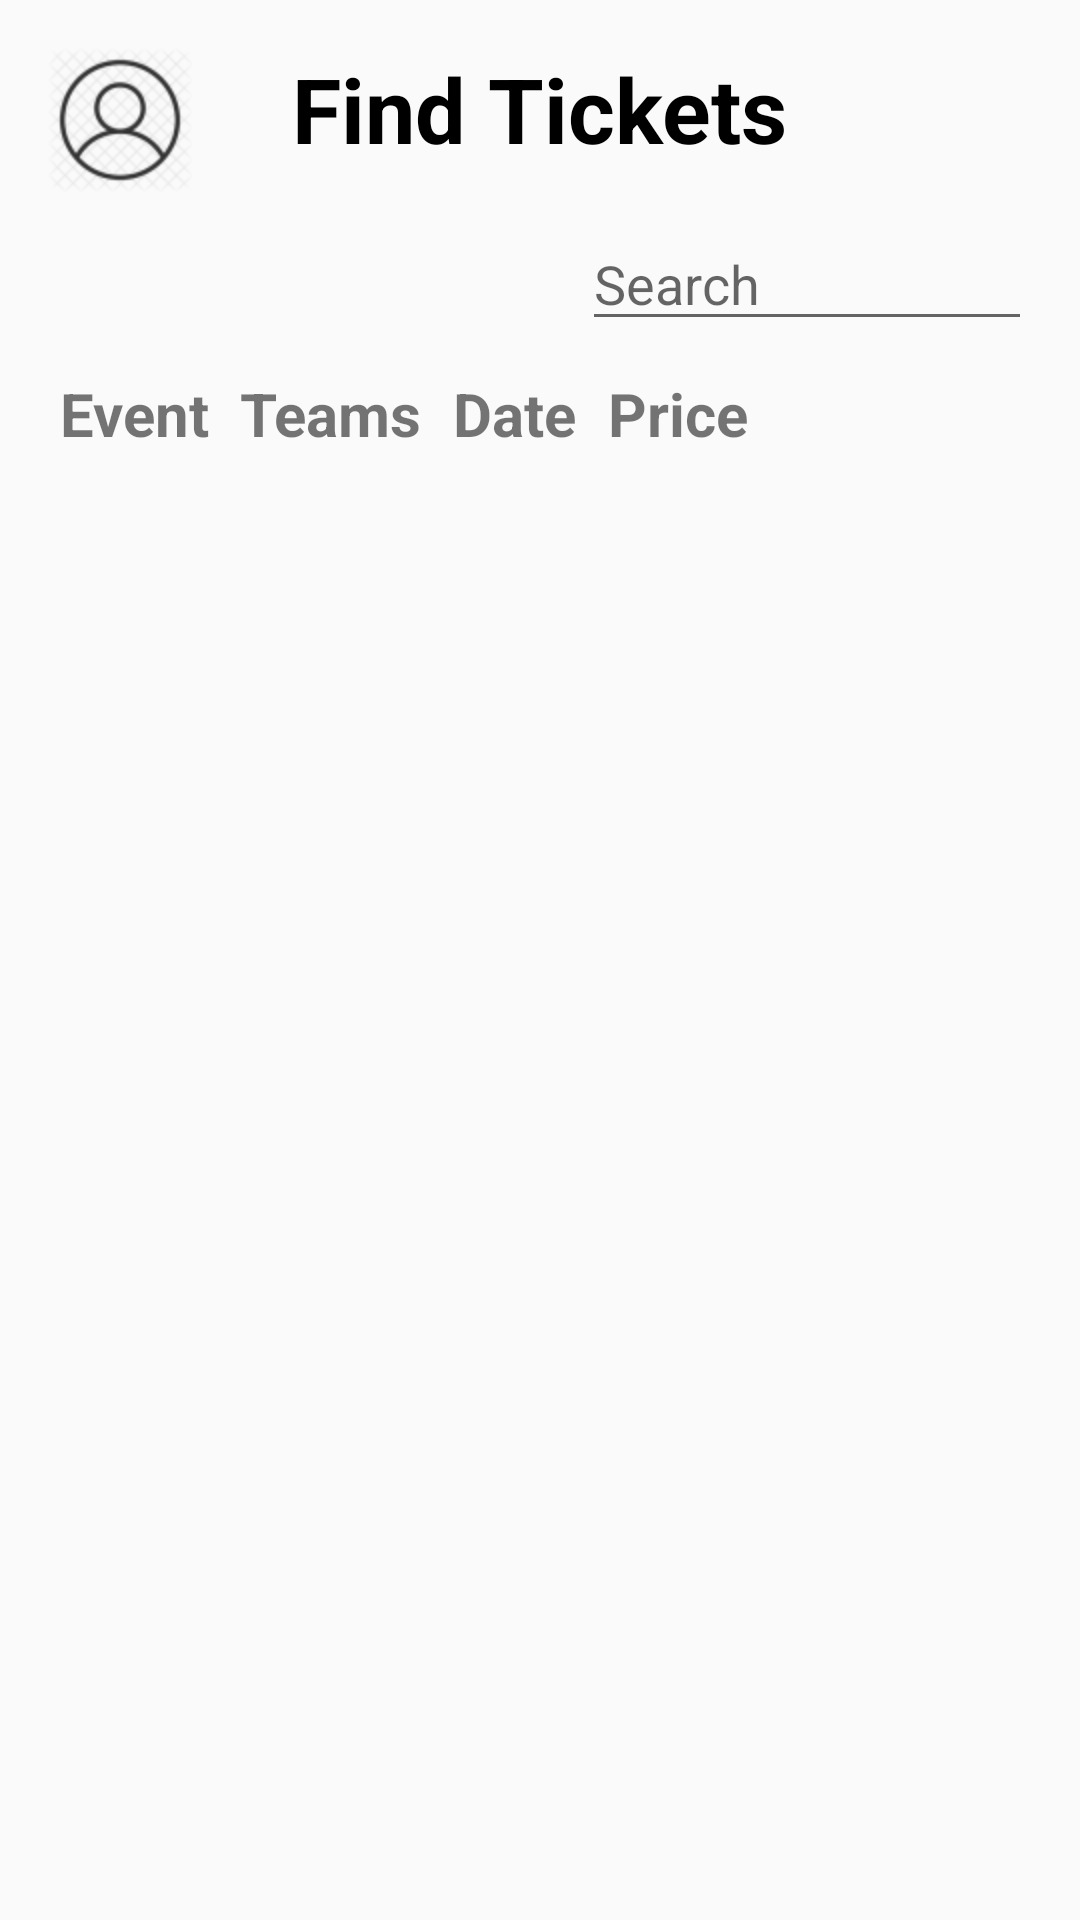

Where icons sit on this 1080w x 1920h app screen, as [x1, y1, x2, y2]:
profile: [59, 59, 181, 181]
